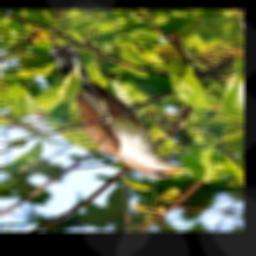Cuckoo: (49, 43, 192, 179)
